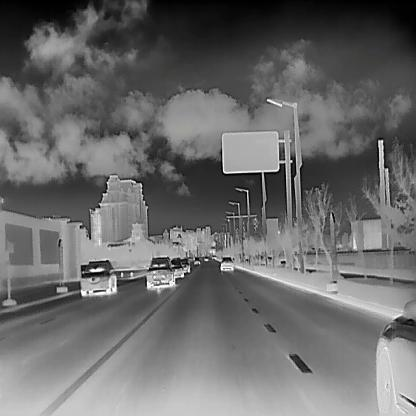car: (375, 298, 415, 416), (79, 258, 116, 296), (145, 254, 174, 288), (170, 256, 183, 278), (219, 255, 235, 270), (180, 256, 190, 271), (193, 256, 200, 264), (203, 254, 208, 260), (210, 254, 216, 258)
